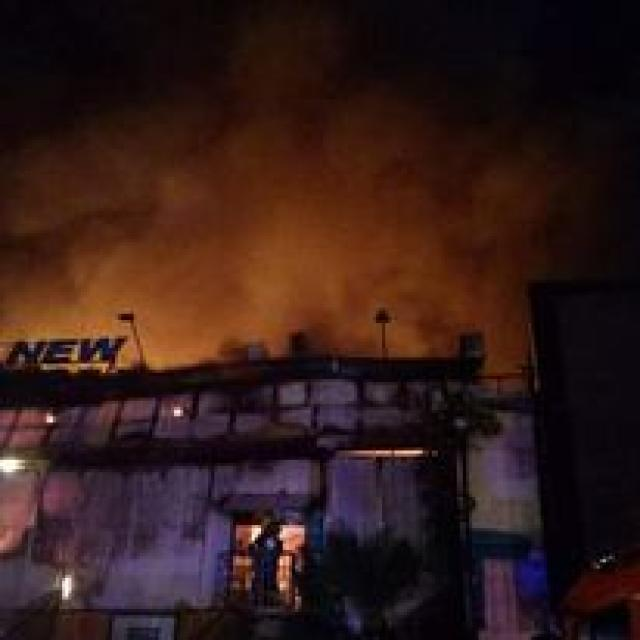Smoke: (0, 17, 578, 368)
